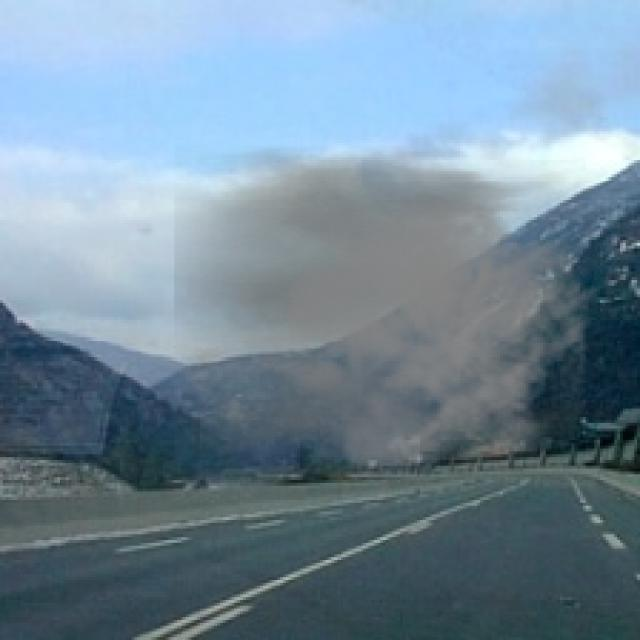smoke: (174, 146, 600, 488)
